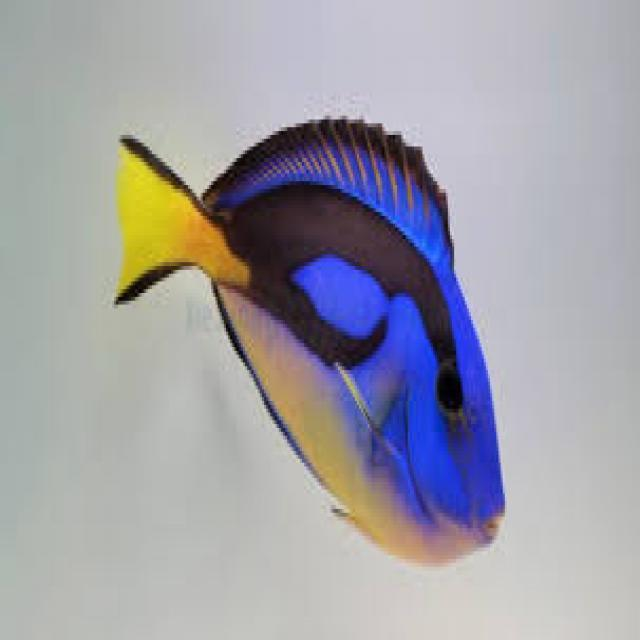BlueTang: (117, 116, 505, 571)
